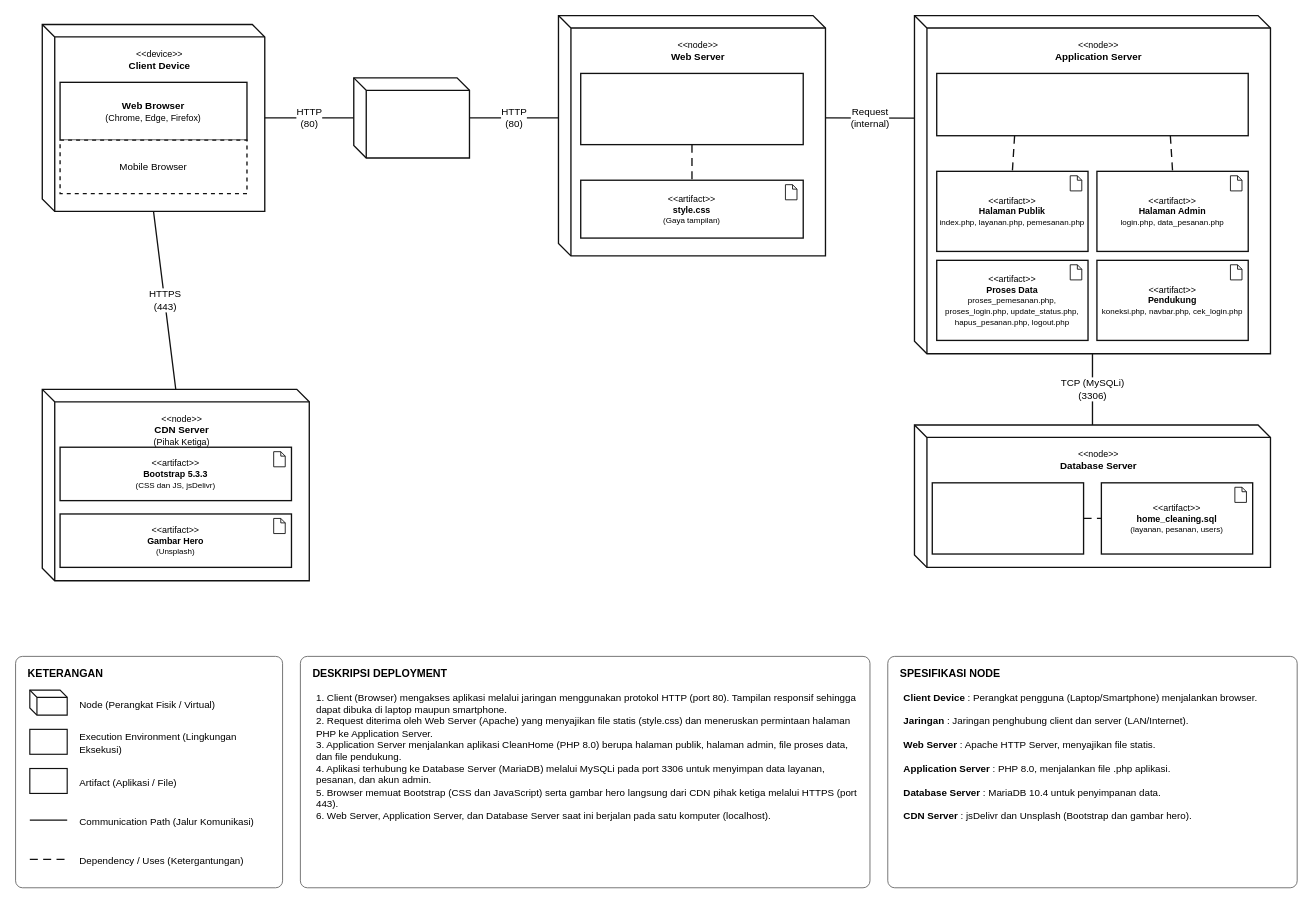
This 1313x904 diagram has some shape labels left out. The centre of each missing label's shape, as x and y in pixels:
"<<database>> MariaDB 10.4 (database home_cleaning)" belongs at point 1007,518.
"<<executionEnvironment>> Apache HTTP Server (Web Server)" belongs at point 691,108.
"<<executionEnvironment>> PHP 8.0 (Application Runtime)" belongs at point 1092,104.
"<<node>> Jaringan (LAN / Internet)" belongs at point 411,117.
